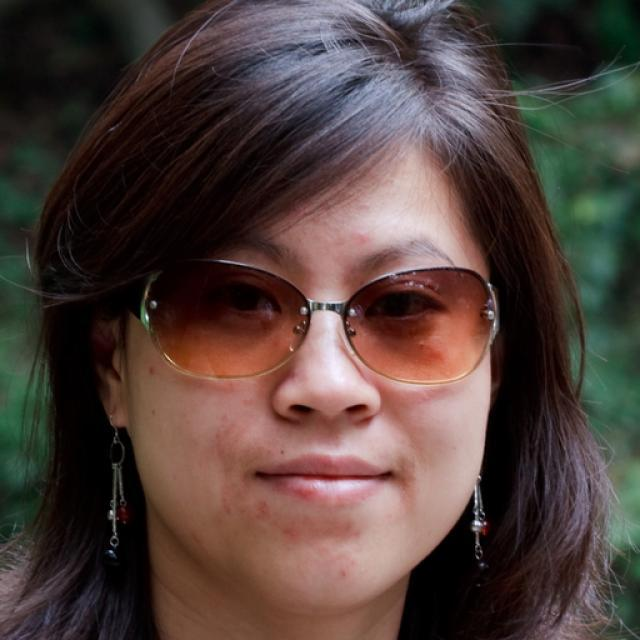content: (128, 143, 494, 612)
